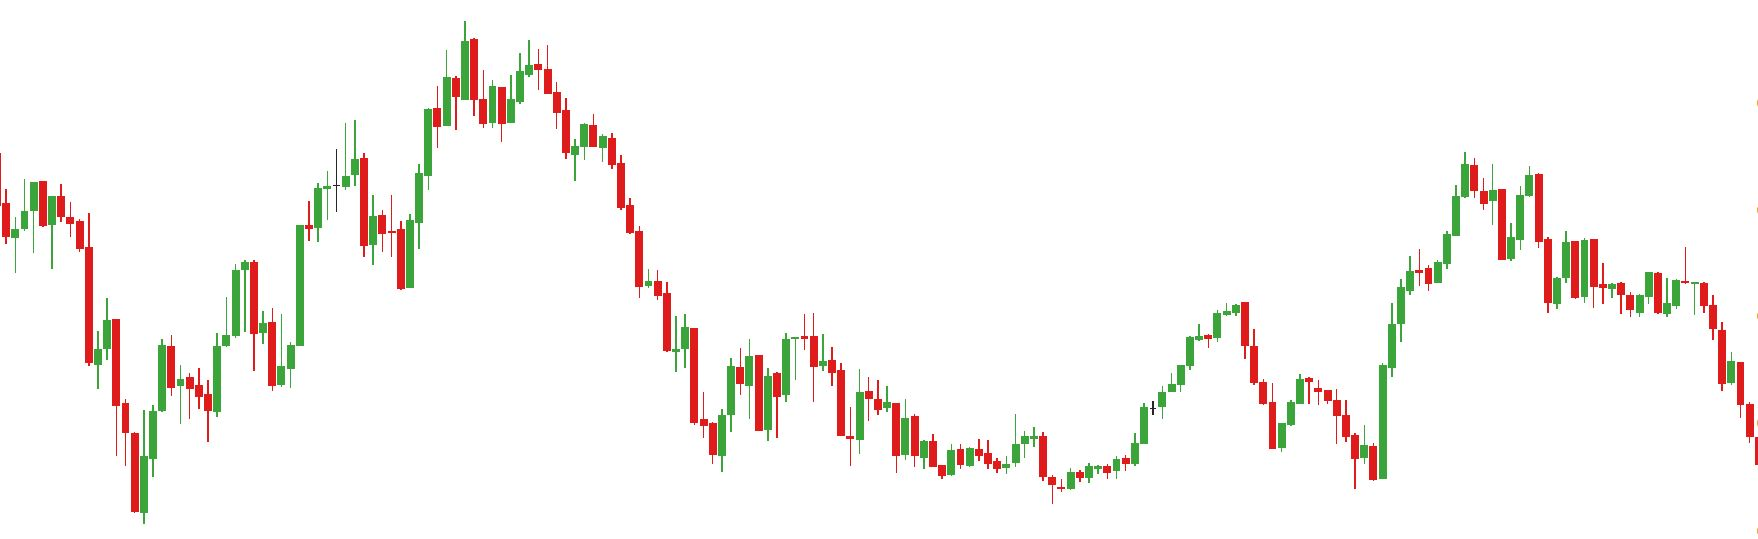sell: (735, 310, 821, 406)
